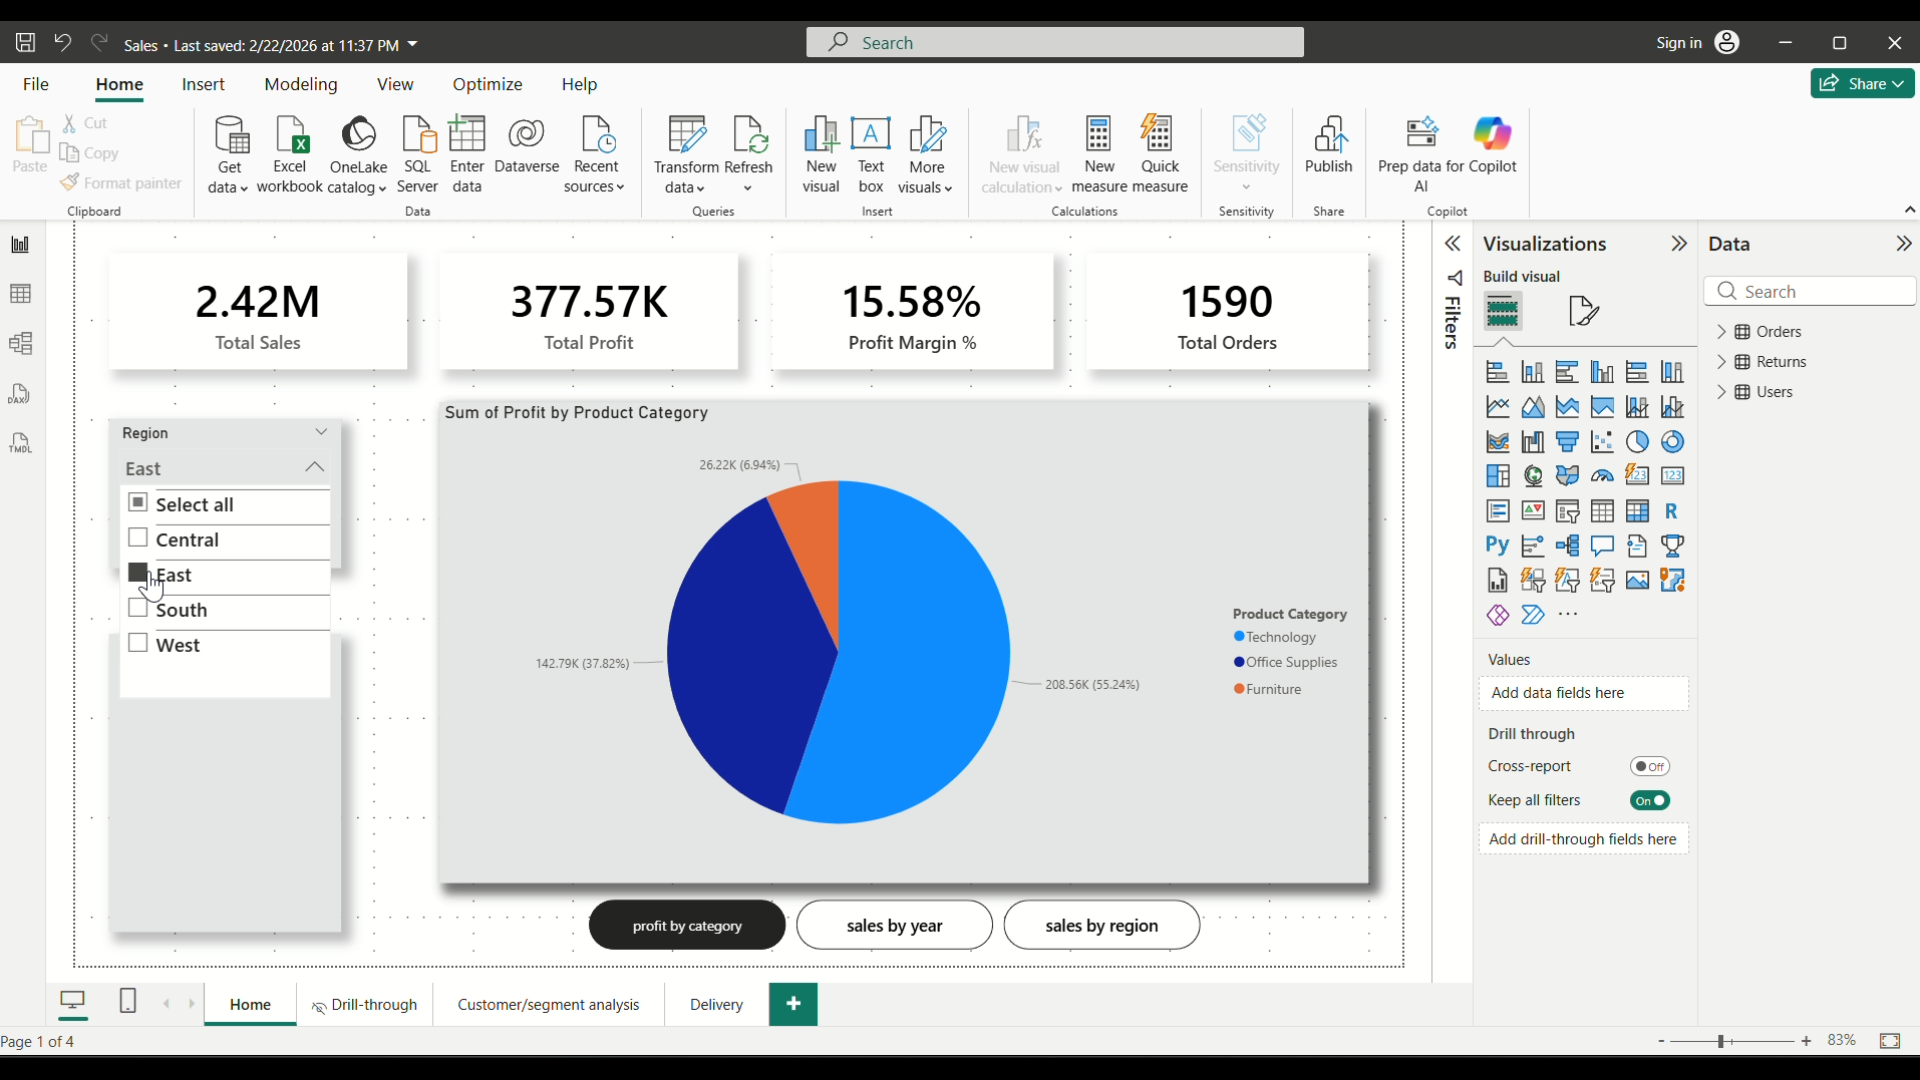

What the dashboard file says about the page in this screenshot:
{"tool":"powerbi","page":{"name":"Home","canvas":[1280,720],"ordinal":0},"visuals":[{"type":"card","fields":{"Values":["Orders.Total Profit"]},"box":[352,32,288,112],"z":0},{"type":"card","fields":{"Values":["Orders.Profit Margin %"]},"box":[672,32,272,112],"z":1000},{"type":"card","fields":{"Values":["Orders.Total Orders"]},"box":[976,32,272,112],"z":2000},{"type":"card","fields":{"Values":["Orders.Total Sales"]},"box":[32,32,288,112],"z":3000},{"type":"lineChart","fields":{"Y":["Sum(Orders.Sales)"],"Category":["Orders.Order Date.Variation.Date Hierarchy.Year"]},"box":[352,176,896,464],"z":5000},{"type":"slicer","fields":{"Values":["Orders.Region"]},"box":[32,192,224,144],"z":6000},{"type":"slicer","fields":{"Values":["Orders.State or Province"]},"box":[32,400,224,288],"z":8000},{"type":"bookmarkNavigator","box":[496,656,592,48],"z":9000}]}

Visuals, with their boxes on the page's 1280x720 design canvas (x1, y1, x2, y2). These are canvas units, not pixel positions in the 1920x1080 screenshot, which may show the page scaled, cropped or inside an application window:
card - Orders.Total Profit: (352,32,640,144)
card - Orders.Profit Margin %: (672,32,944,144)
card - Orders.Total Orders: (976,32,1248,144)
card - Orders.Total Sales: (32,32,320,144)
lineChart - Sum(Orders.Sales) x Orders.Order Date.Variation.Date Hierarchy.Year: (352,176,1248,640)
slicer - Orders.Region: (32,192,256,336)
slicer - Orders.State or Province: (32,400,256,688)
bookmarkNavigator: (496,656,1088,704)
